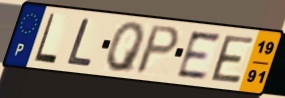E: (175, 30, 223, 81), (209, 34, 256, 86)
L: (64, 16, 94, 69), (32, 12, 59, 66)
P: (133, 23, 182, 76)
Q: (105, 21, 146, 75)
